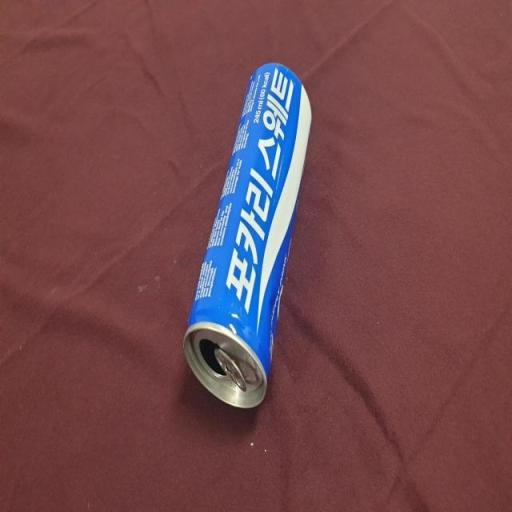metal: (170, 38, 330, 432)
